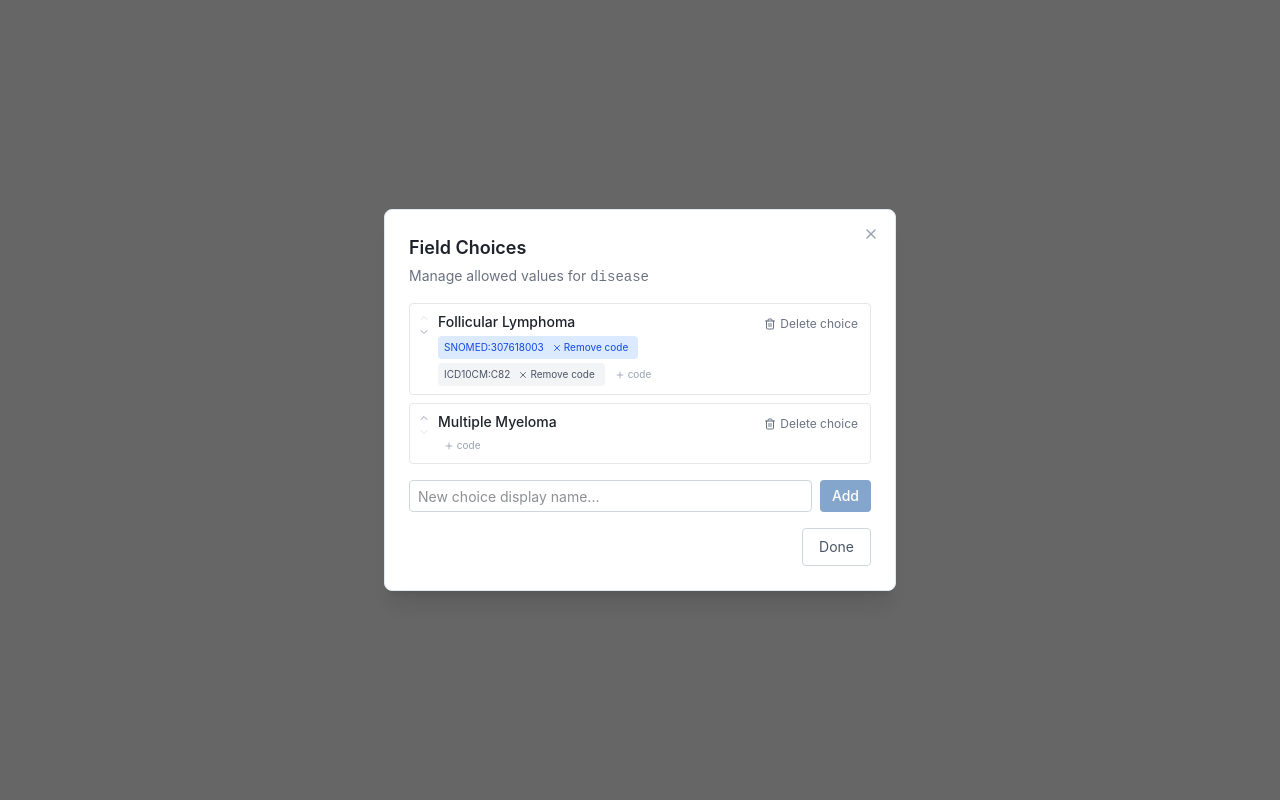
Test: FieldChoiceEditor › removes only the selected code and keeps the allowed value and other codes
The image size is (1280, 800).
Click the button with aria-label "Remove code SNOMED:307618003 from Follicular Lymphoma": (590, 348) [548,338,632,357]
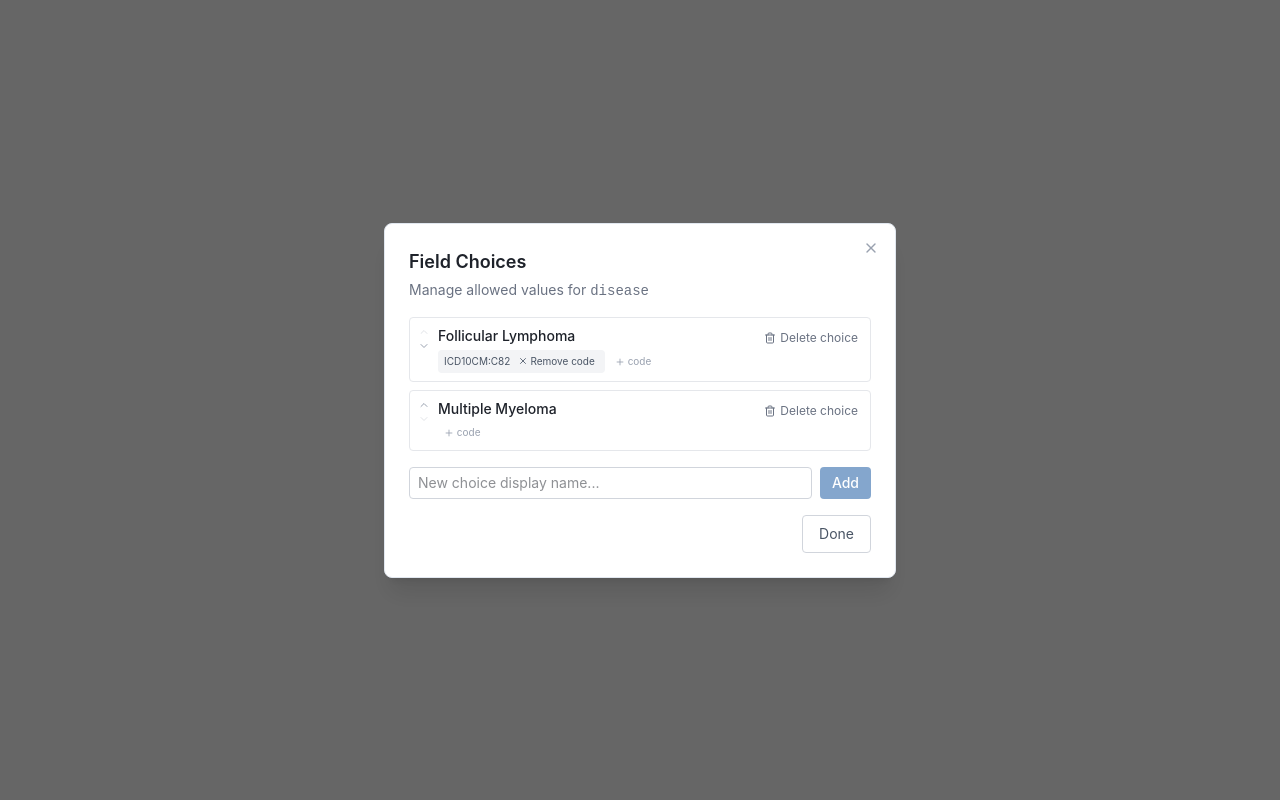
Check: the text "Follicular Lymphoma" is shown, box [438,326,575,344]
Check: the text "SNOMED:307618003" is gone
